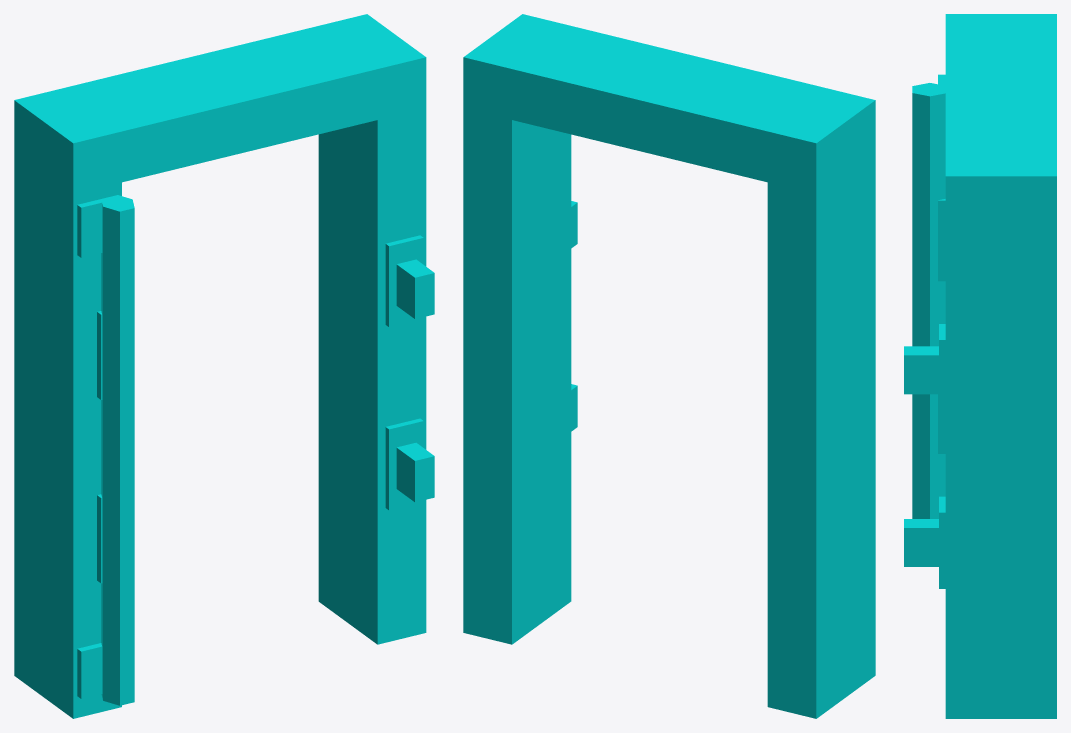
The model's file is SM_Bld_Vault_Door_01_Collision.fbx.
3 views of the same model, side by side, from view 1: azimuth 30°, elevation 25°; view 2: azimuth 150°, elevation 25°; view 3: azimuth 270°, elevation 25° (orthographic). The views are drawn at different scales.
Parts seen in each view (by area): view 1: SM_Bld_Vault_Door_01_Collision; view 2: SM_Bld_Vault_Door_01_Collision; view 3: SM_Bld_Vault_Door_01_Collision.
Part boxes in pixels (<box>): SM_Bld_Vault_Door_01_Collision: <box>14,14,434,718</box>; SM_Bld_Vault_Door_01_Collision: <box>463,14,875,718</box>; SM_Bld_Vault_Door_01_Collision: <box>904,14,1056,718</box>.
Bounding box in the file's own units: 138 × 216 × 55.06.
